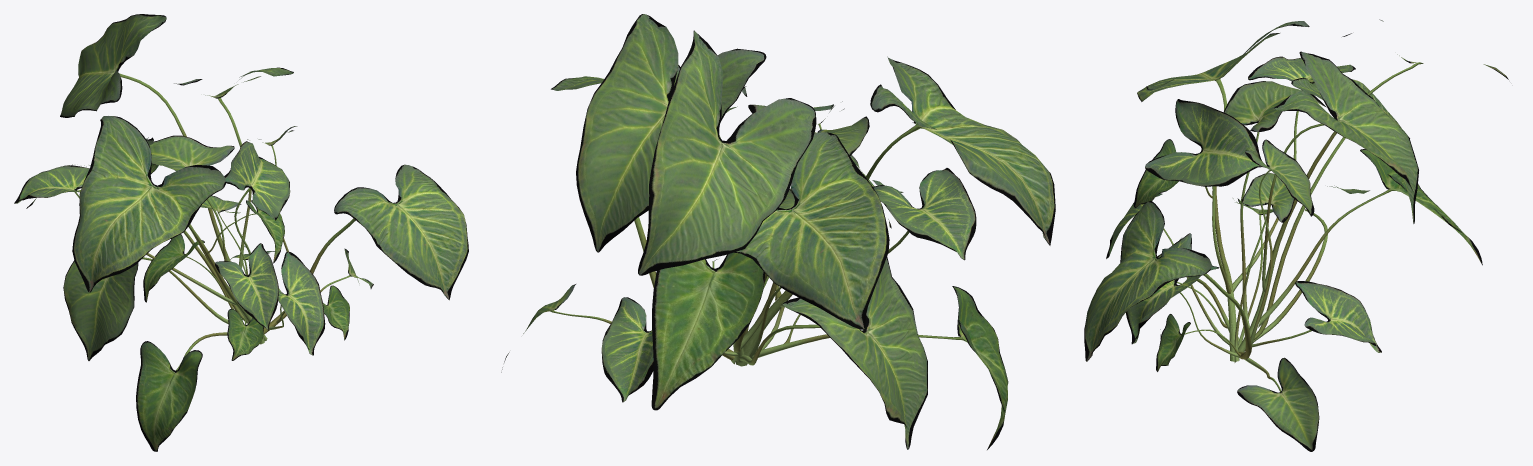
Rendered from lonac-biljka-lisce.glb.
3 views of the same model, side by side, from view 1: azimuth 30°, elevation 25°; view 2: azimuth 150°, elevation 25°; view 3: azimuth 270°, elevation 25° (orthographic). The views are drawn at different scales.
Size of the model in its own units: 0.7012 by 0.6326 by 0.6432.
Materials: 1 (1 with a texture image).
